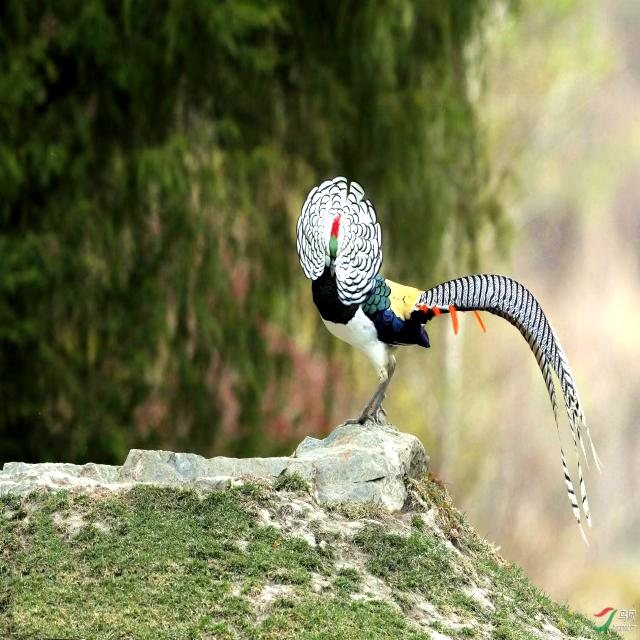Chrysolophus amherstiae: (416, 274, 589, 455), (561, 447, 580, 525)
